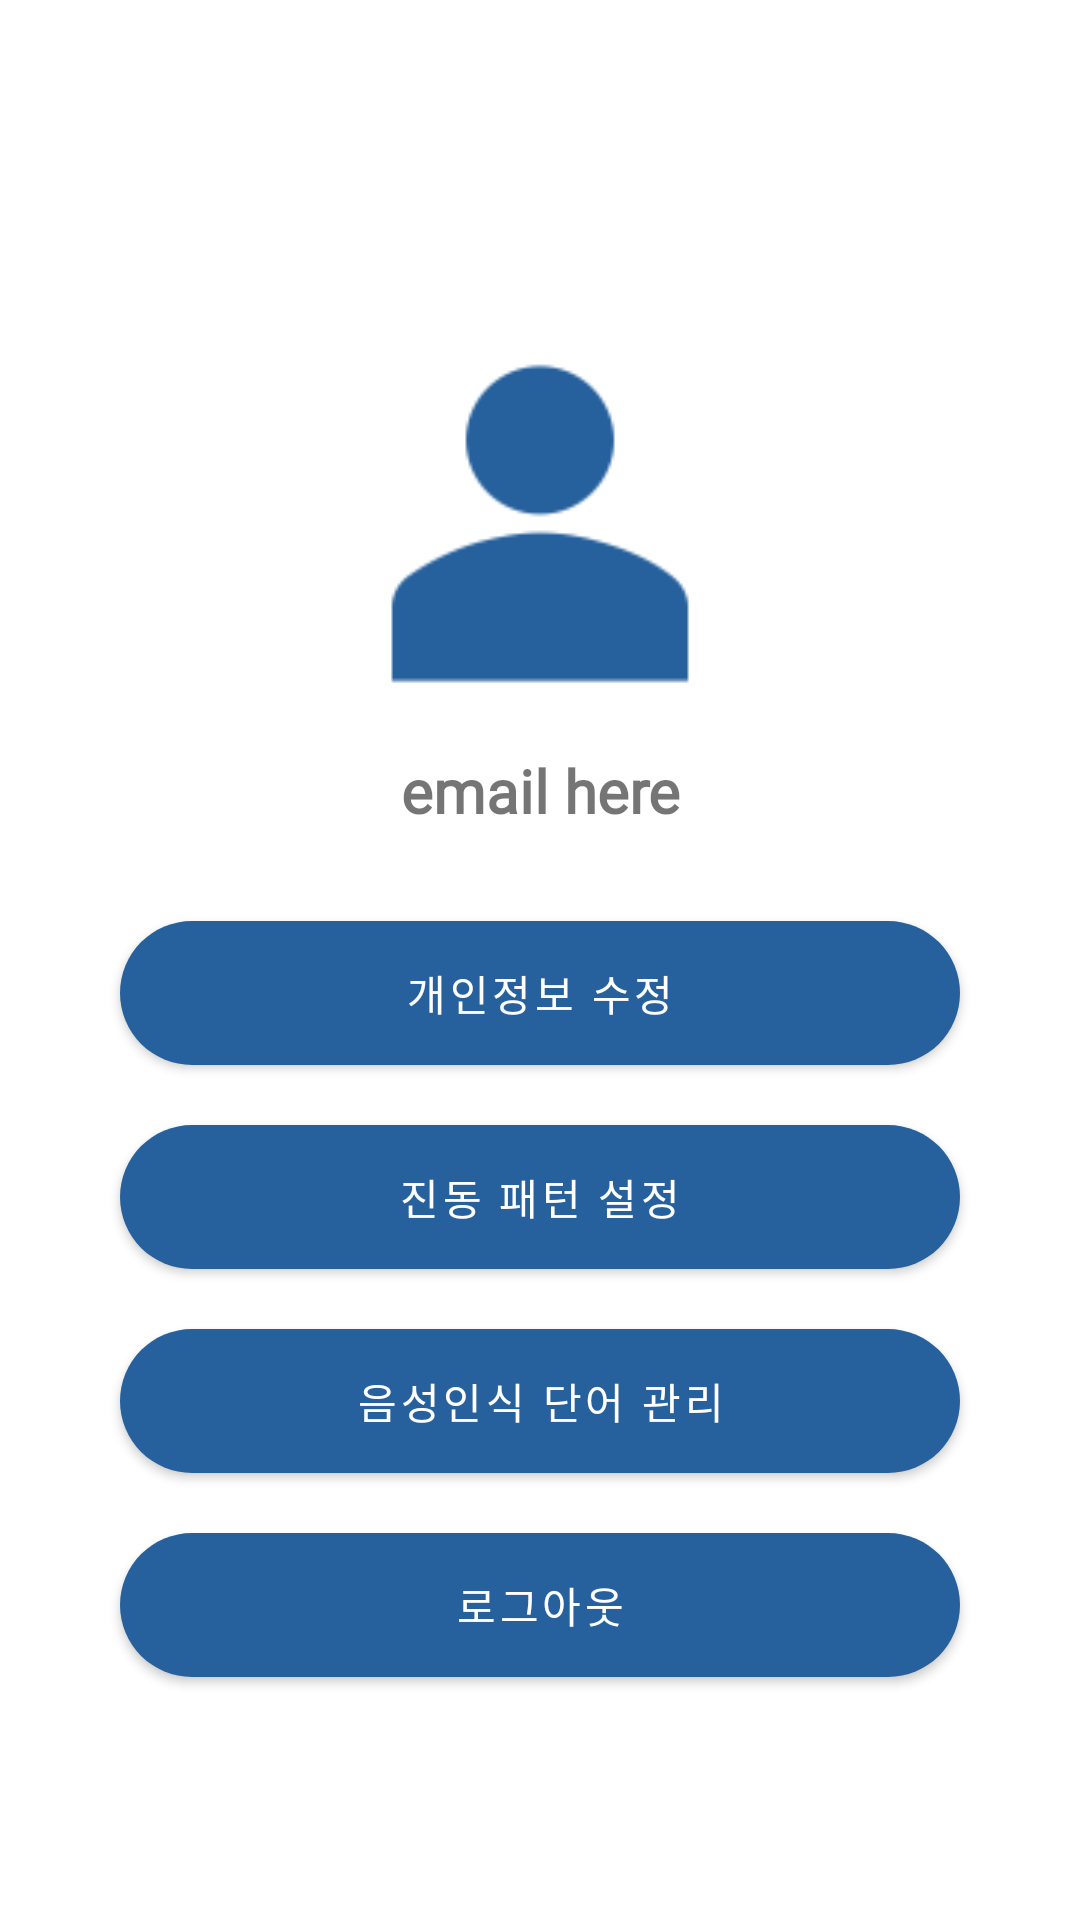

Locate icon controls on the screen. Image size 1080×1920, boxes as (left=x1, top=y1, right=x2, bottom=y2).
user: (left=391, top=364, right=689, bottom=683)
